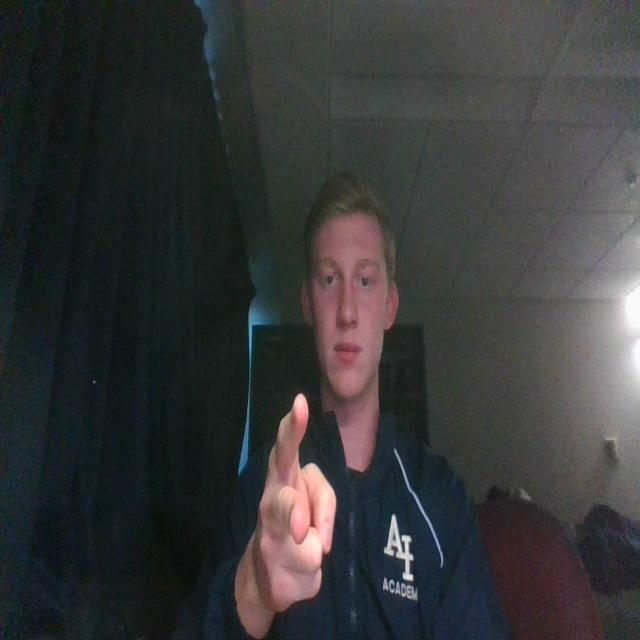scissors: (252, 386, 340, 630)
